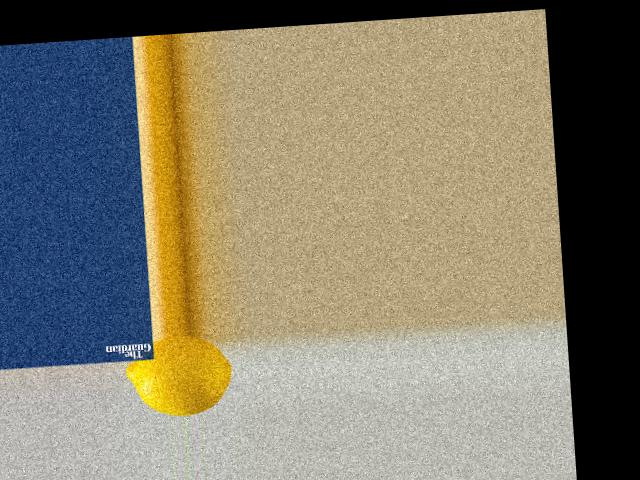lemon: (117, 332, 240, 419)
